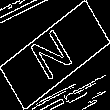N_SE: (29, 23, 81, 87)
